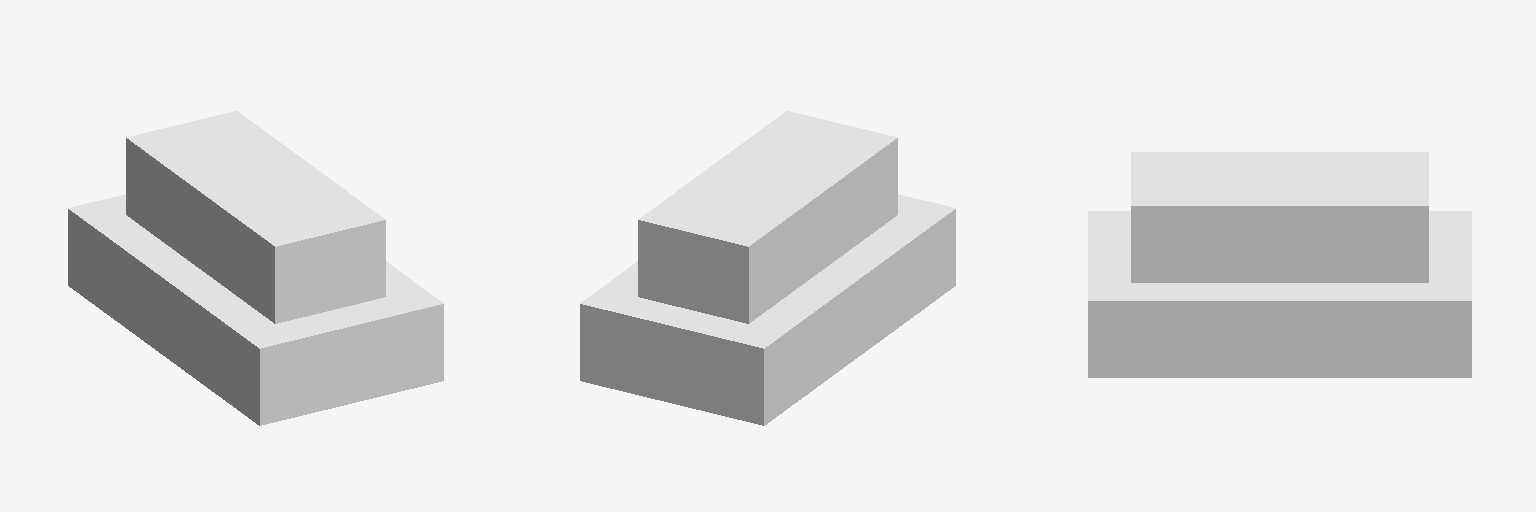
Rendered from bush3.obj.
3 views of the same model, side by side, from view 1: azimuth 30°, elevation 25°; view 2: azimuth 150°, elevation 25°; view 3: azimuth 270°, elevation 25° (orthographic).
Visible parts, largest first — view 1: object 1; view 2: object 1; view 3: object 1.
Boxes of the visible parts, x1=… form: object 1: x1=68, y1=111, x2=443, y2=425; object 1: x1=580, y1=111, x2=955, y2=425; object 1: x1=1088, y1=152, x2=1471, y2=377.
Bounding box in the file's own units: 0.5 × 0.4 × 0.9.